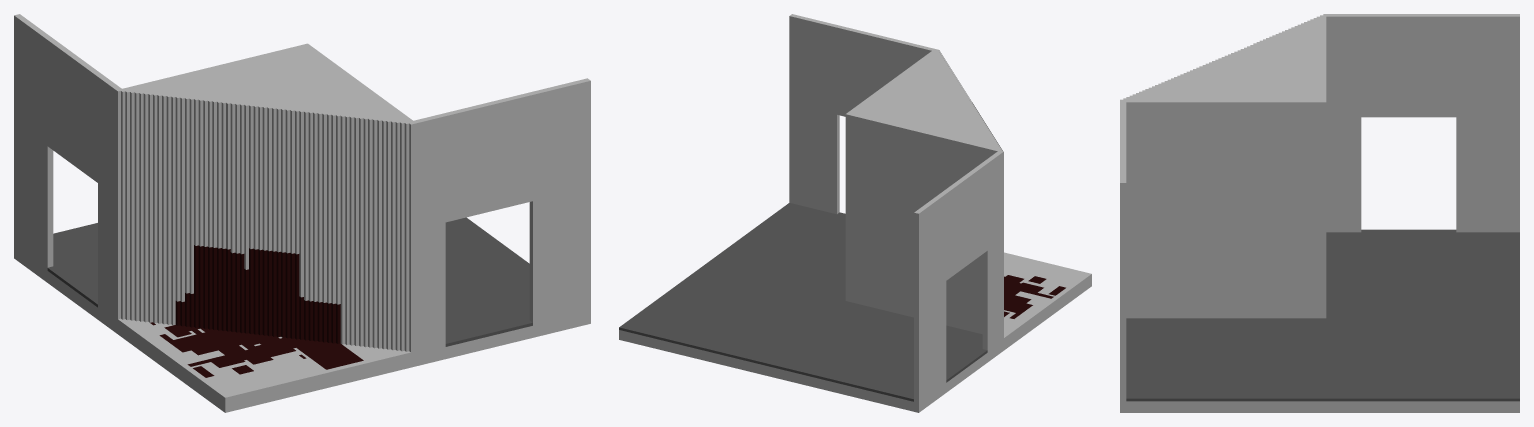
Rendered from 4x2 first (1)-1.obj.
The picture shows the model from 3 angles, left to right: view 1: azimuth 30°, elevation 25°; view 2: azimuth 150°, elevation 25°; view 3: azimuth 270°, elevation 25°; orthographic projection. The views are drawn at different scales.
Parts seen in each view (by area): view 1: 4x2 first (1)-1; view 2: 4x2 first (1)-1; view 3: 4x2 first (1)-1.
Part boxes in pixels (box(x1,y1,x2,y2)): 4x2 first (1)-1: box(14, 14, 590, 412); 4x2 first (1)-1: box(619, 14, 1091, 412); 4x2 first (1)-1: box(1120, 14, 1519, 412).
Bounding box in the file's own units: 126 × 80 × 126.
Materials: 1 (1 with a texture image).
